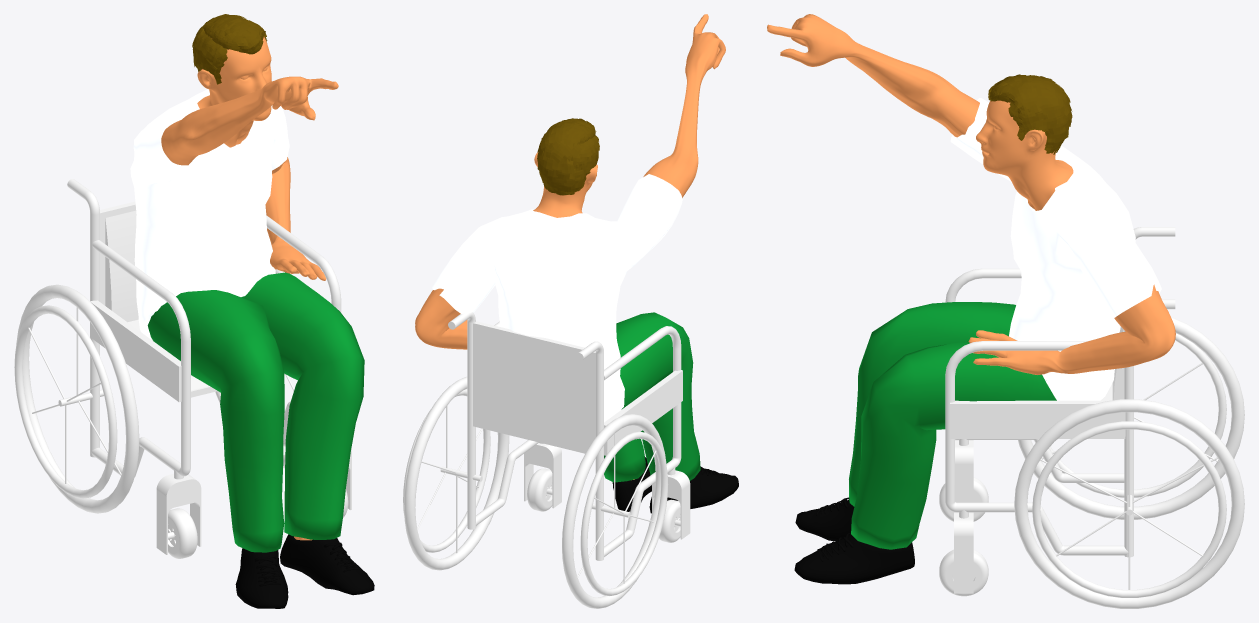
File: Man_01_Gesturing-transformed.glb
3 renders of one model, left to right at view 1: azimuth 30°, elevation 25°; view 2: azimuth 150°, elevation 25°; view 3: azimuth 270°, elevation 25°, orthographic. The views are drawn at different scales.
Visible parts, largest first — view 1: Bottoms.002, Chair.002, Top.002, Body.002, Shoes.002, Hair.002; view 2: Chair.002, Top.002, Body.002, Bottoms.002, Hair.002, Shoes.002; view 3: Chair.002, Bottoms.002, Top.002, Body.002, Shoes.002, Hair.002.
Boxes of the visible parts, <box> form: Bottoms.002: <box>147,272,364,552</box>; Chair.002: <box>14,179,351,558</box>; Top.002: <box>130,89,289,338</box>; Body.002: <box>161,37,338,540</box>; Shoes.002: <box>235,534,374,608</box>; Hair.002: <box>192,14,267,84</box>; Chair.002: <box>403,312,690,608</box>; Top.002: <box>432,174,682,422</box>; Body.002: <box>415,14,725,479</box>; Bottoms.002: <box>604,312,700,482</box>; Hair.002: <box>537,118,599,195</box>; Shoes.002: <box>612,457,738,513</box>; Chair.002: <box>939,227,1244,608</box>; Bottoms.002: <box>849,302,1056,549</box>; Top.002: <box>950,98,1161,400</box>; Body.002: <box>767,14,1175,374</box>; Shoes.002: <box>794,497,914,584</box>; Hair.002: <box>988,74,1072,154</box>.
Bounding box in the file's own units: 0.7048 × 1.52 × 1.24.
